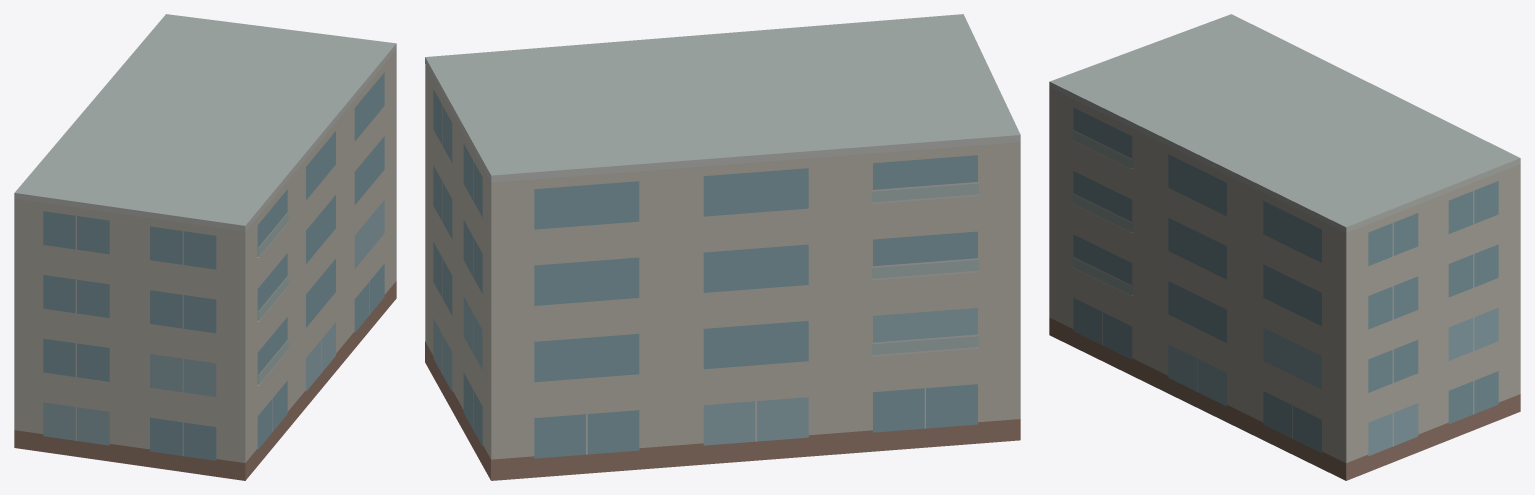
File: survey-upis-32694171.glb
3 views of the same model, side by side, from view 1: azimuth 30°, elevation 25°; view 2: azimuth 150°, elevation 25°; view 3: azimuth 270°, elevation 25° (orthographic). The views are drawn at different scales.
Visible parts, largest first — view 1: survey-upis-32694171.tmp; view 2: survey-upis-32694171.tmp; view 3: survey-upis-32694171.tmp.
Part boxes in pixels (x1,y1,x2,y2): survey-upis-32694171.tmp: (14, 14, 396, 480); survey-upis-32694171.tmp: (425, 14, 1020, 480); survey-upis-32694171.tmp: (1049, 14, 1520, 480).
Size of the model in its own units: 19.41 by 10.75 by 18.11.
